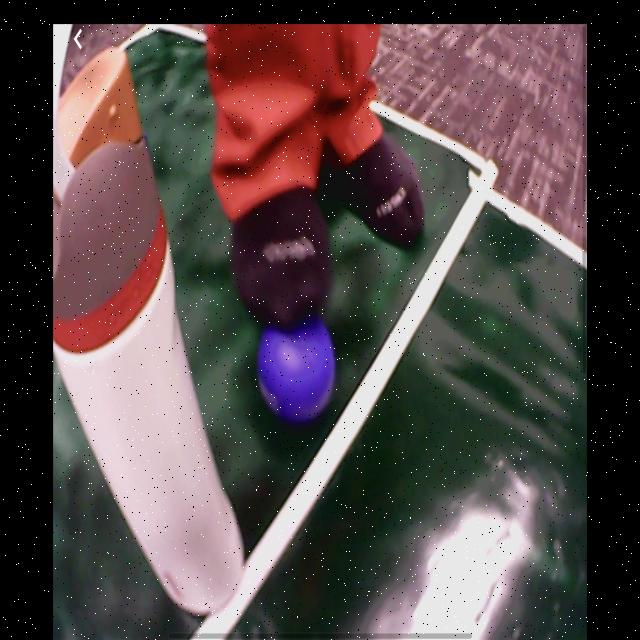ball: (258, 313, 338, 421)
